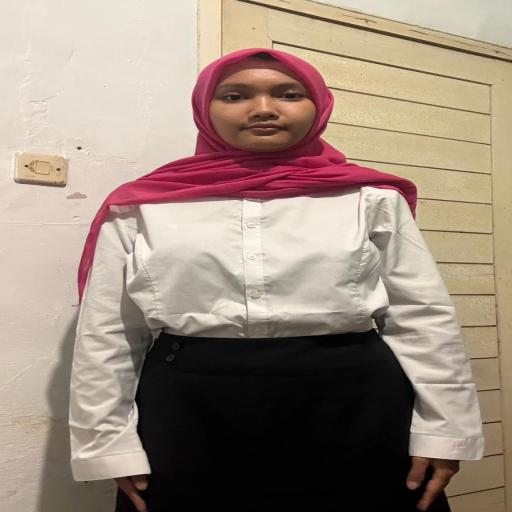kemeja_benar: (87, 187, 446, 338)
kerudung_benar: (110, 42, 401, 202)
rok_benar: (130, 328, 416, 512)
